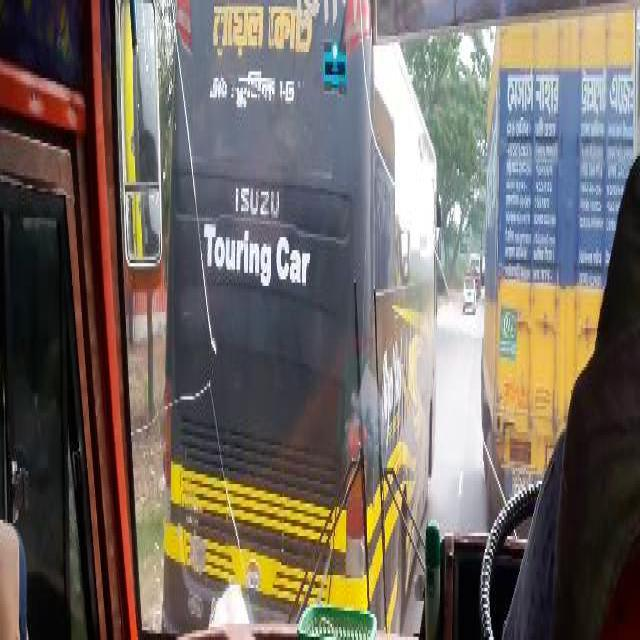bus: (163, 6, 431, 634)
car: (463, 275, 475, 307)
pickup: (482, 29, 634, 514)
